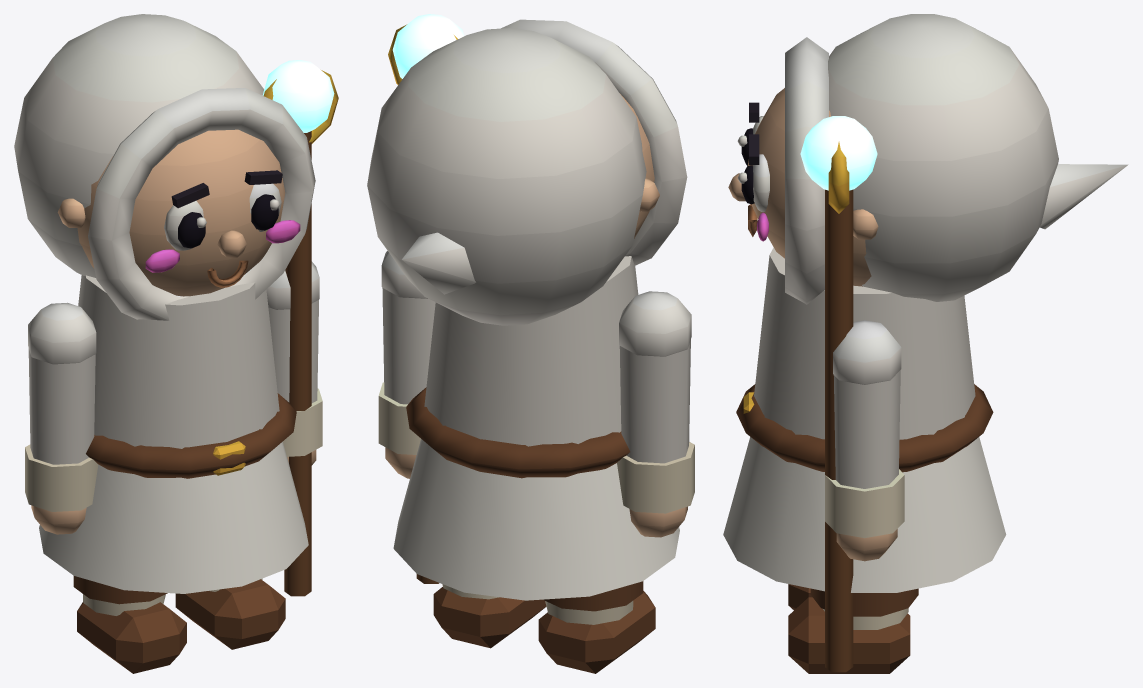
The model's file is hero_mirela.glb.
The picture shows the model from 3 angles, left to right: view 1: azimuth 30°, elevation 25°; view 2: azimuth 150°, elevation 25°; view 3: azimuth 270°, elevation 25°; orthographic projection. The views are drawn at different scales.
Visible parts, largest first — view 1: body_t0_palette, arml_t0_palette, armr_t0_palette, legl_t0_palette, legr_t0_palette, armr_t0_glow_teal; view 2: body_t0_palette, arml_t0_palette, armr_t0_palette, legl_t0_palette, legr_t0_palette, armr_t0_glow_teal; view 3: body_t0_palette, armr_t0_palette, legr_t0_palette, armr_t0_glow_teal.
Part boxes in pixels (left/top/right/bottom): body_t0_palette: left=14, top=14, right=315, bottom=593; arml_t0_palette: left=25, top=302, right=98, bottom=534; armr_t0_palette: left=263, top=70, right=338, bottom=596; legl_t0_palette: left=73, top=576, right=186, bottom=673; legr_t0_palette: left=175, top=578, right=285, bottom=649; armr_t0_glow_teal: left=262, top=60, right=334, bottom=132; body_t0_palette: left=367, top=19, right=687, bottom=600; arml_t0_palette: left=617, top=291, right=694, bottom=537; armr_t0_palette: left=378, top=24, right=457, bottom=583; legl_t0_palette: left=538, top=581, right=655, bottom=673; legr_t0_palette: left=433, top=584, right=546, bottom=648; armr_t0_glow_teal: left=392, top=14, right=464, bottom=78; body_t0_palette: left=723, top=14, right=1128, bottom=592; armr_t0_palette: left=825, top=141, right=904, bottom=672; legr_t0_palette: left=788, top=588, right=918, bottom=673; armr_t0_glow_teal: left=800, top=116, right=877, bottom=190.
Size of the model in its own units: 0.277 by 0.5265 by 0.3152.
